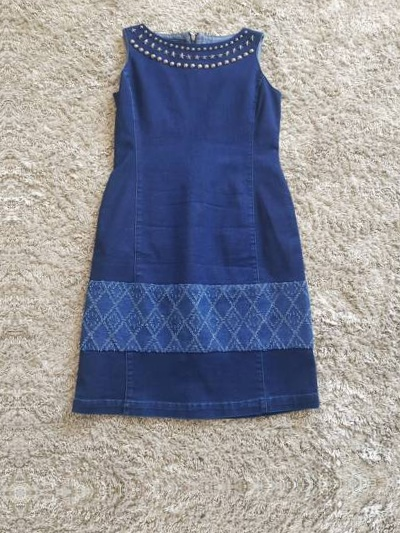Dress: (48, 4, 339, 425)
